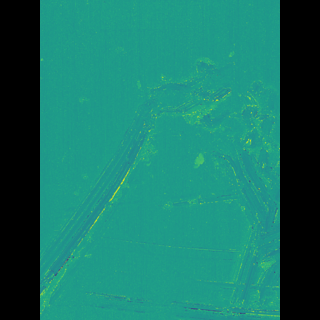Loch: (70, 45, 217, 319), (194, 57, 251, 320), (101, 285, 249, 319)
